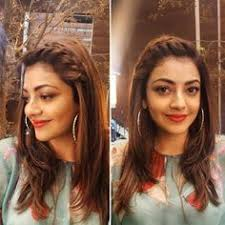indian_female: (134, 30, 201, 137)
